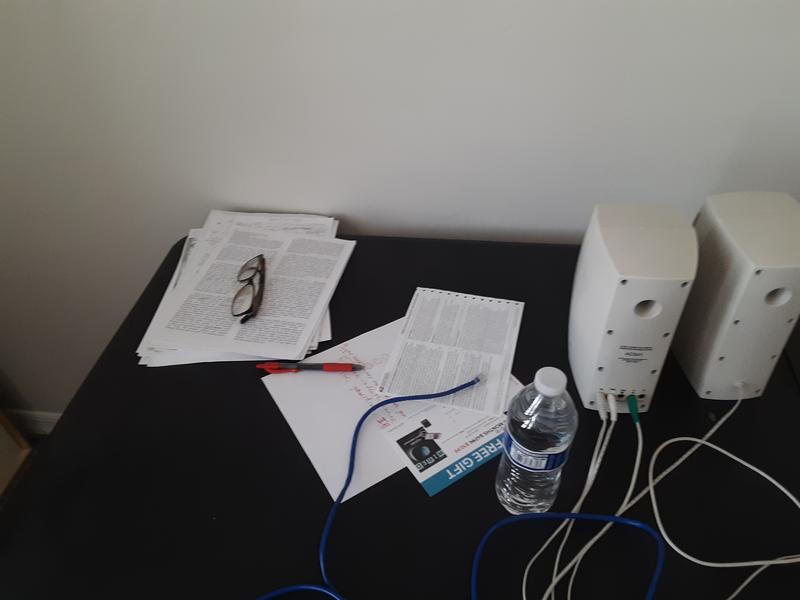glasses: (231, 253, 268, 325)
